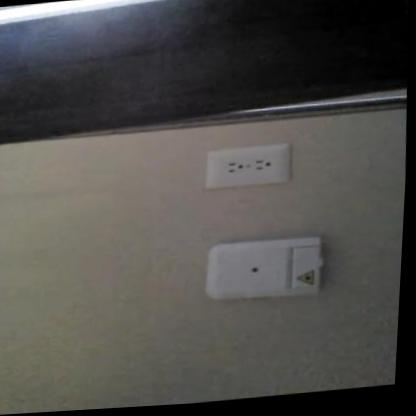OUTLET: (202, 143, 293, 190)
